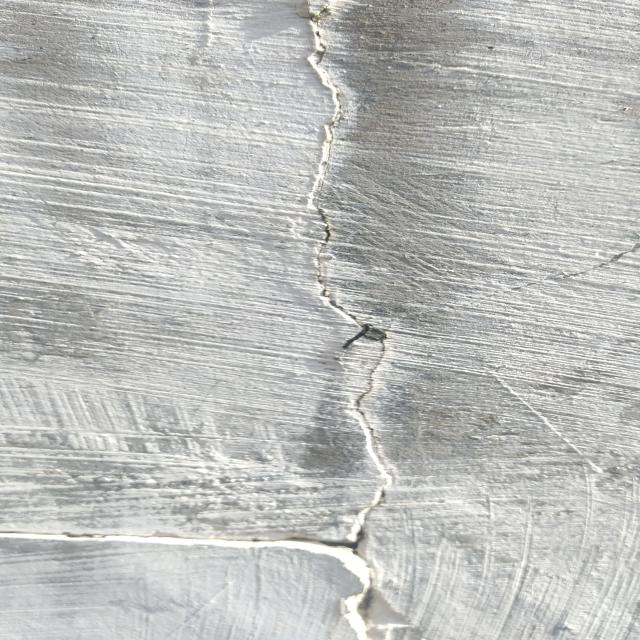Crack: (3, 1, 404, 639)
